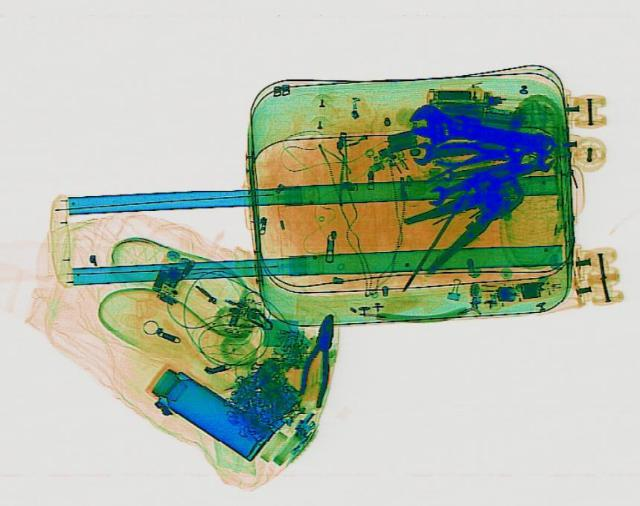Pliers: (384, 170, 552, 274), (289, 309, 345, 404)
Wrench: (404, 100, 556, 159), (420, 156, 516, 204)
